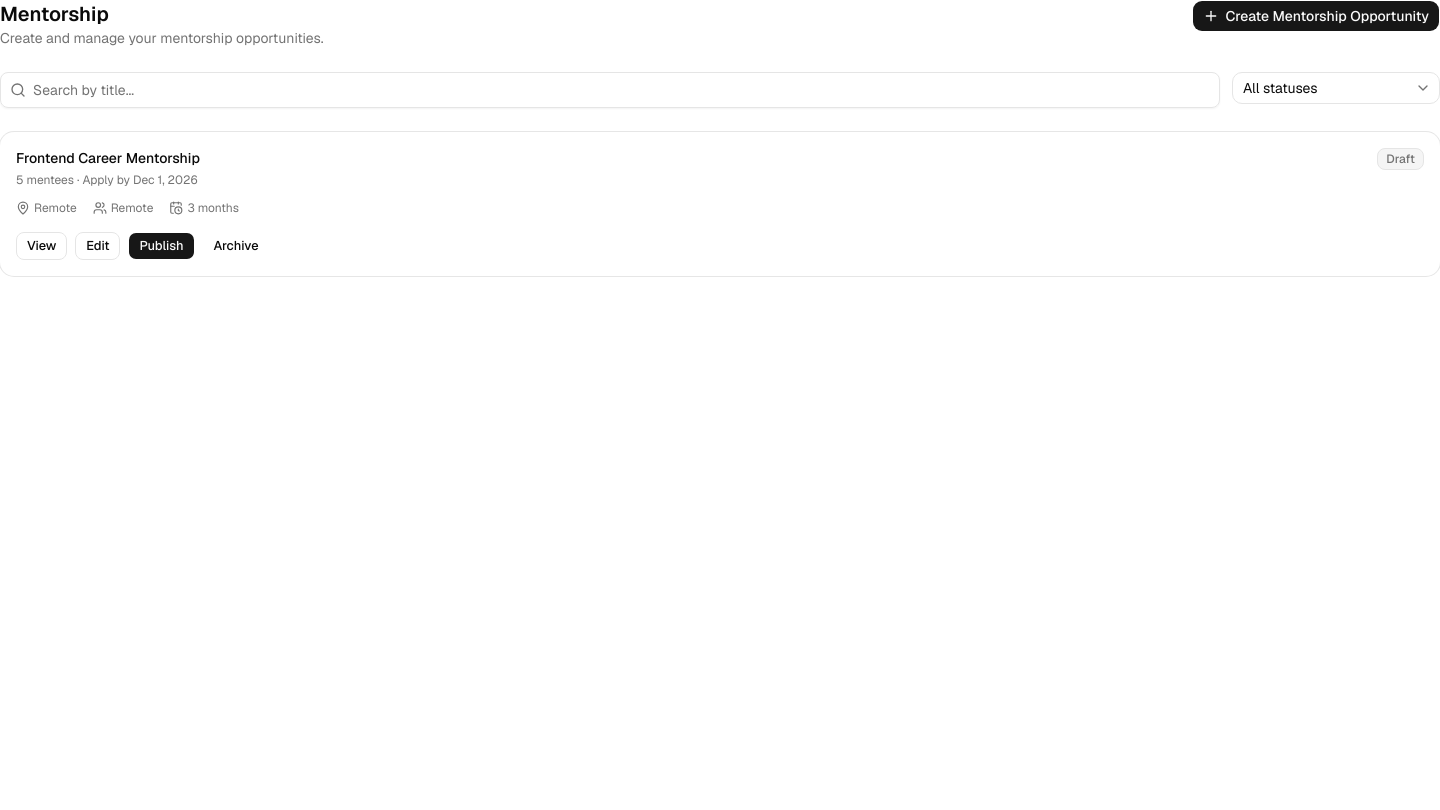
Test case: MentorshipListView › publishes a mentorship opportunity through the confirmation dialog
Expected: the link "Frontend Career Mentorship" is shown, [16,148,200,168]
Step 1. Click the button "Publish" → (162, 246), box [128,232,195,260]
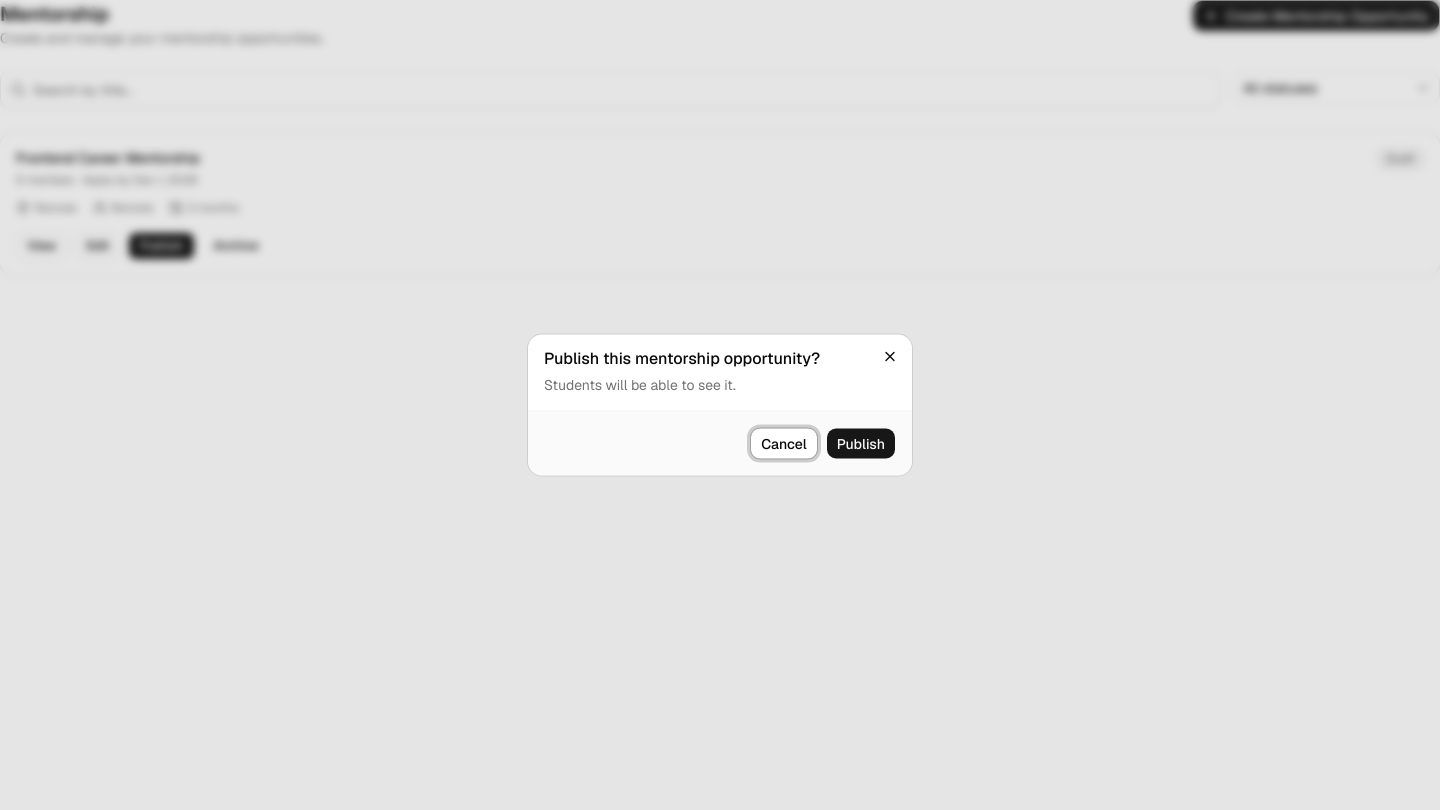
Step 2. Click the button "Publish" → (861, 444), box [826,428,896,460]
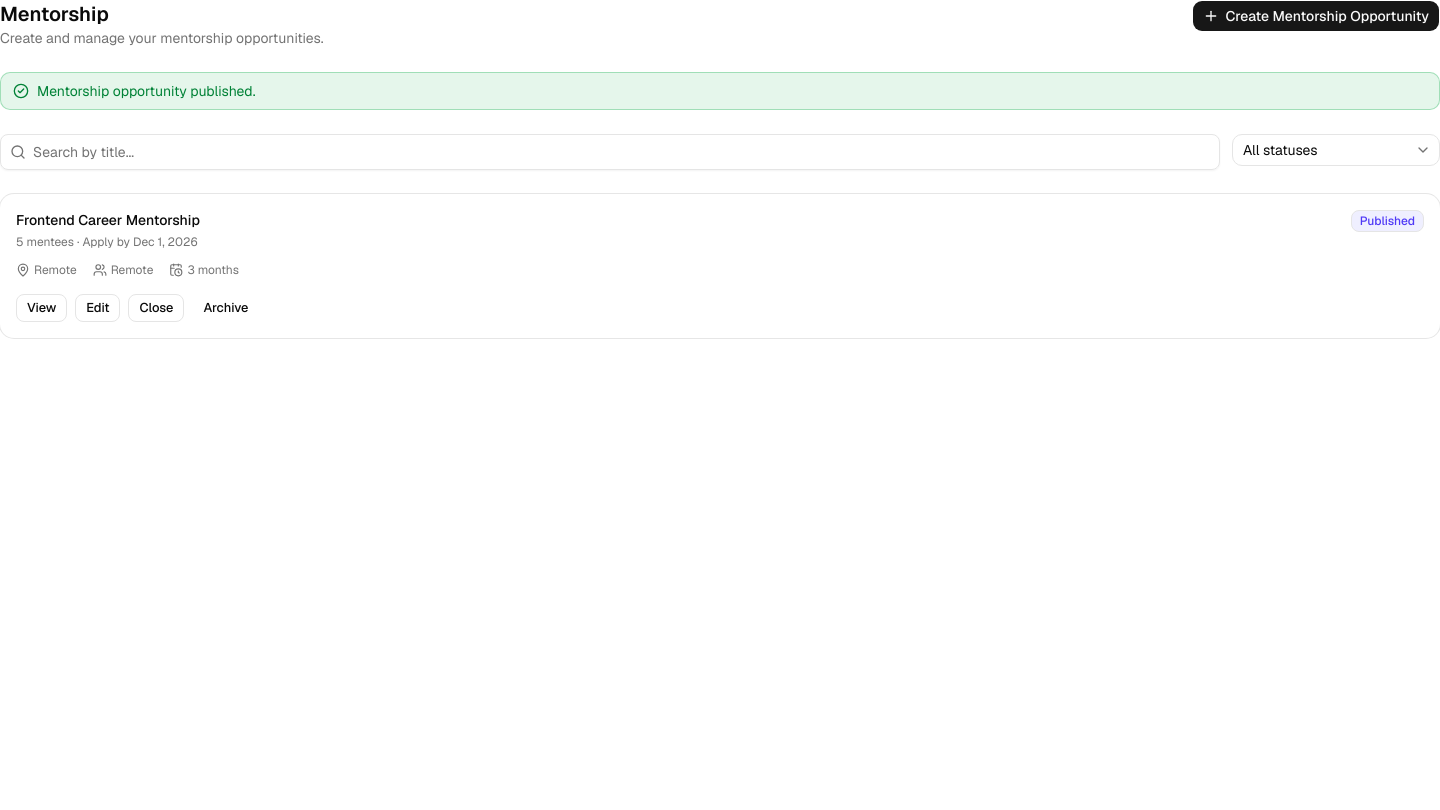
Now the text "Mentorship opportunity published." is shown, box [37,81,256,101]
